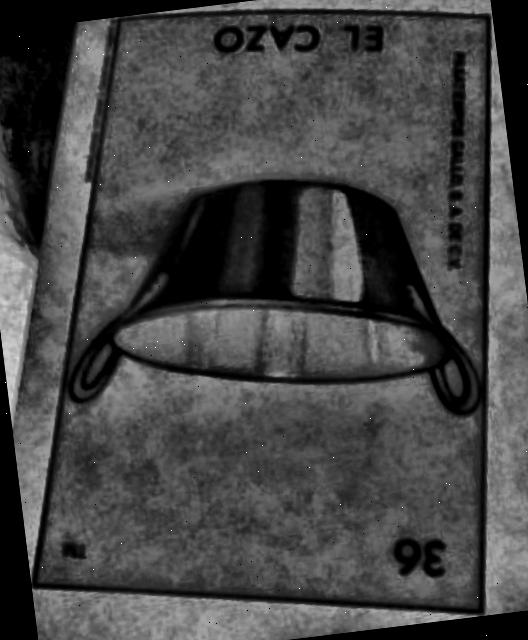El Cazo: (32, 19, 478, 609)
